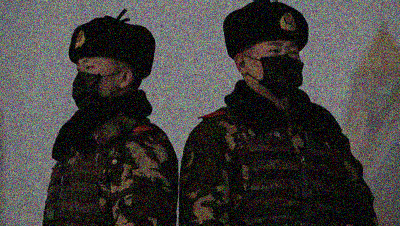with_mask: (247, 40, 304, 94), (73, 58, 121, 109)
